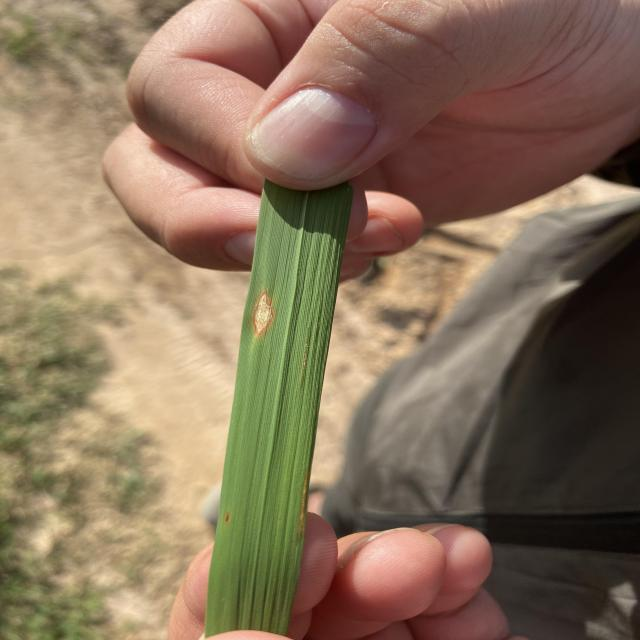Dao on: (253, 292, 273, 336)
